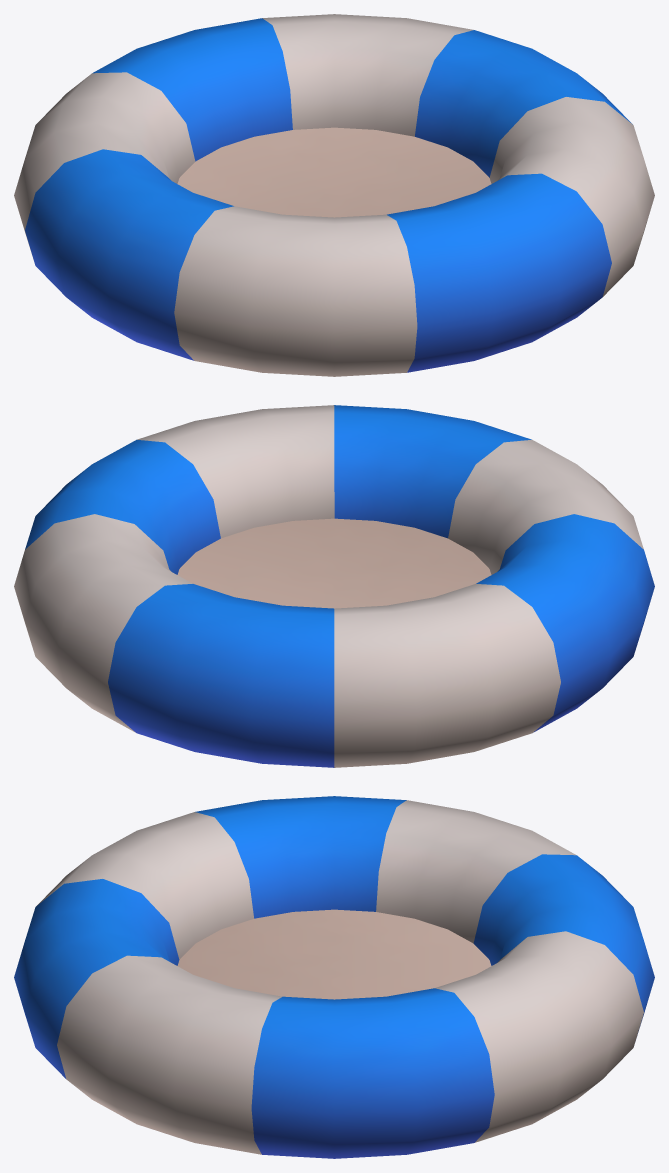
File: phao_blue.fbx
The picture shows the model from 3 angles, top to bottom: view 1: azimuth 30°, elevation 25°; view 2: azimuth 150°, elevation 25°; view 3: azimuth 270°, elevation 25°; orthographic projection.
Parts seen in each view (by area): view 1: phao_blue; view 2: phao_blue; view 3: phao_blue.
Part boxes in pixels (x1=…): phao_blue: x1=14, y1=14, x2=654, y2=376; phao_blue: x1=14, y1=405, x2=654, y2=767; phao_blue: x1=14, y1=796, x2=654, y2=1158.
Size of the model in its own units: 107 by 26.6 by 107.
